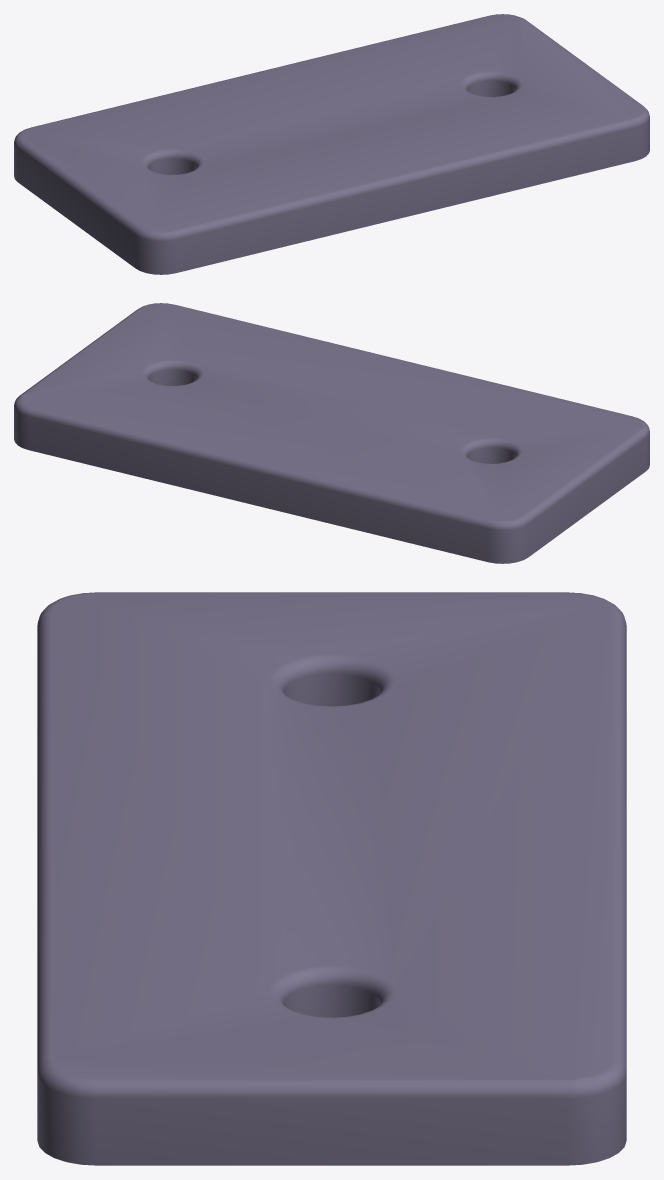
File: start_first.glb
The picture shows the model from 3 angles, top to bottom: view 1: azimuth 30°, elevation 25°; view 2: azimuth 150°, elevation 25°; view 3: azimuth 270°, elevation 25°; orthographic projection. The views are drawn at different scales.
Parts seen in each view (by area): view 1: plate; view 2: plate; view 3: plate.
Boxes of the visible parts, <box> form: plate: <box>14,14,649,274</box>; plate: <box>14,303,649,563</box>; plate: <box>37,592,626,1165</box>.
Size of the model in its own units: 0.08 by 0.006 by 0.04.
